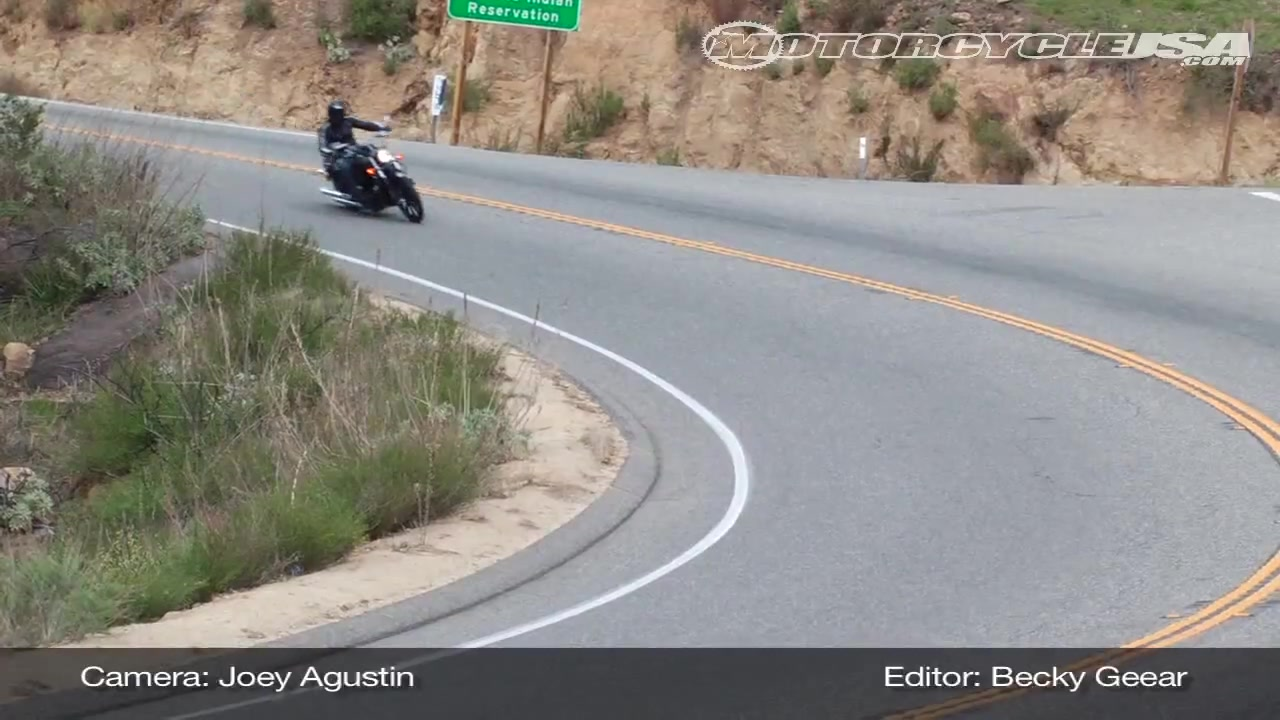motorbike: (318, 125, 428, 222)
